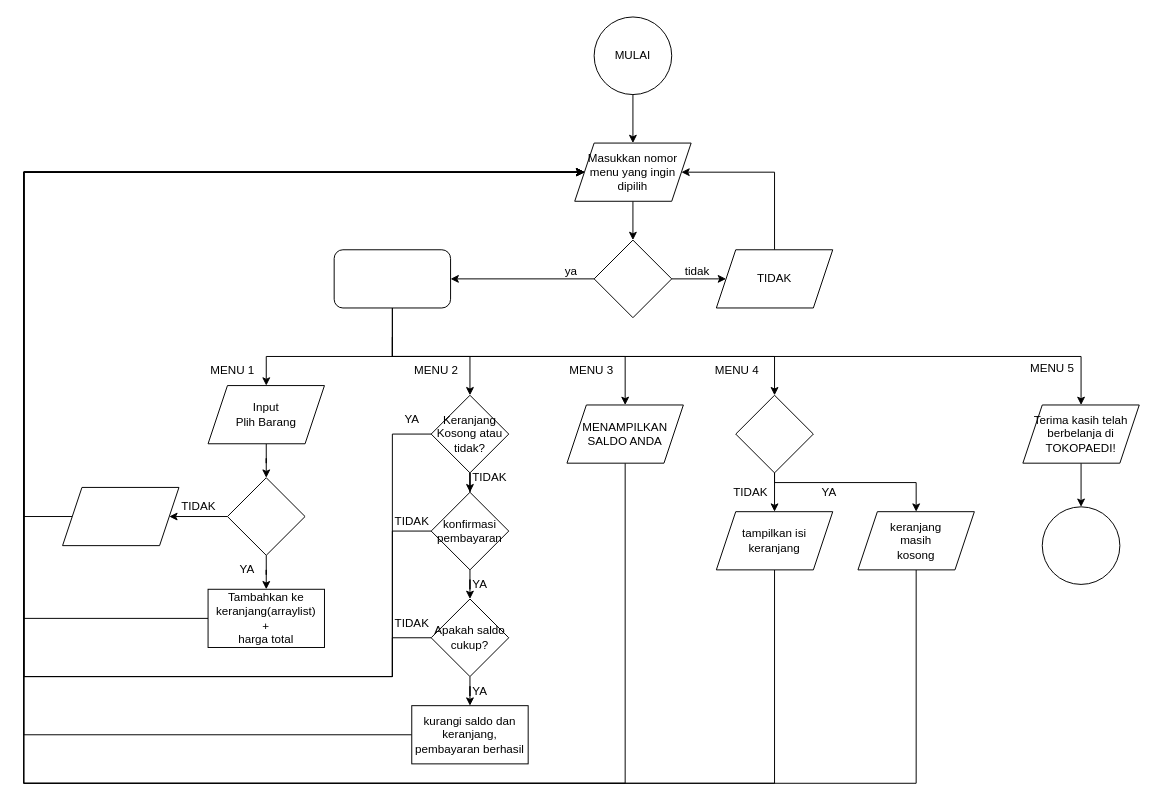
Some shapes in this 1156 by 808 pixel diagram are drawn without their labels. Here are the shapes that lost their labels. From the top down, the centre of each, then its label:
the point at 392,278: USER MEMILIH SALAH SATU MENU
the point at 632,278: Nomor Menu Valid
the point at 774,433: keranjang kosong?
the point at 120,516: Tolong pilih menu yang tertera!
the point at 265,516: Nomor barang valid
the point at 1080,545: SELESAI
